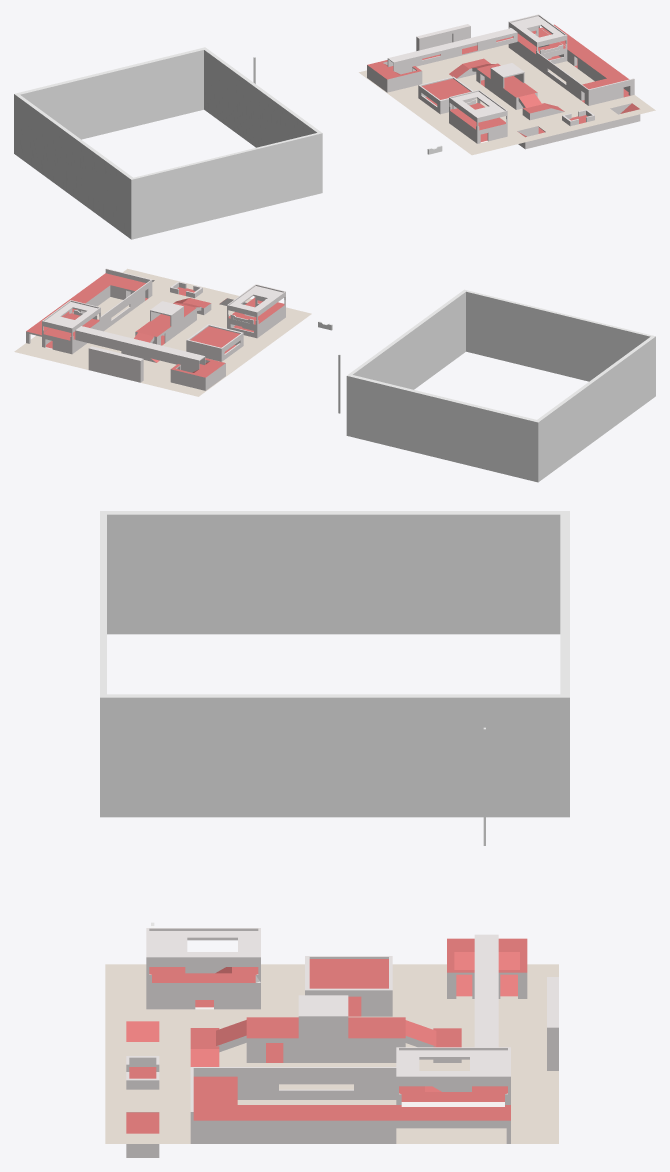
The model's file is newprotolevellof.fbx.
3 views of the same model, one above another, from view 1: azimuth 30°, elevation 25°; view 2: azimuth 150°, elevation 25°; view 3: azimuth 270°, elevation 25° (orthographic). The views are drawn at different scales.
Visible parts, largest first — view 1: Component_2_1, Component_3_1; view 2: Component_2_1, Component_3_1; view 3: Component_2_1, Component_3_1.
Part boxes in pixels (box(x1,y1,x2,y2)): Component_2_1: box(14, 47, 322, 239); Component_3_1: box(359, 14, 655, 155); Component_2_1: box(346, 289, 655, 482); Component_3_1: box(14, 268, 311, 396); Component_2_1: box(100, 511, 569, 817); Component_3_1: box(105, 928, 558, 1157).
Size of the model in its own units: 137 by 17.9 by 52.97.
